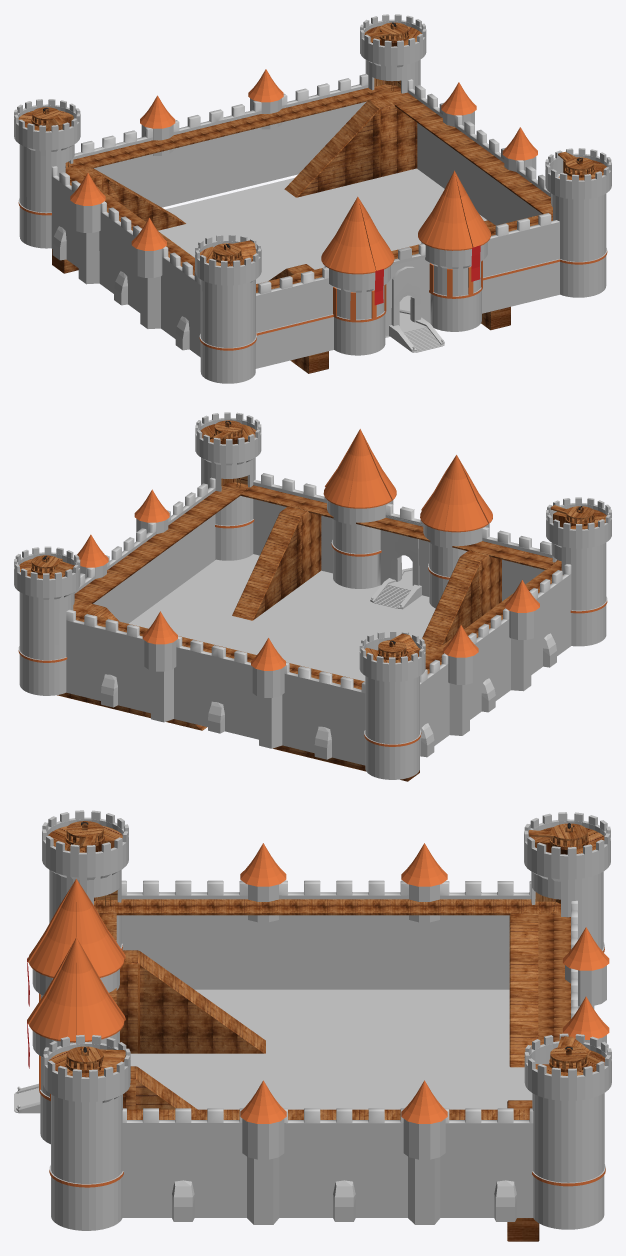
Rendered from castel9.fbx.
3 views of the same model, one above another, from view 1: azimuth 30°, elevation 25°; view 2: azimuth 150°, elevation 25°; view 3: azimuth 270°, elevation 25° (orthographic). The views are drawn at different scales.
Parts seen in each view (by area): view 1: Paredes, Maderas, Plane, Torre1, Torre4, Torre2, Torre3, Entrada; view 2: Paredes, Maderas, Plane, Torre2, Torre3, Torre1, Torre4, Entrada; view 3: Paredes, Plane, Maderas, Torre3, Torre4, Torre2, Torre1, Entrada.
Boxes of the visible parts, x1,y1,x2,y2 form: Paredes: (51, 69, 559, 368); Maderas: (52, 84, 552, 373); Plane: (158, 168, 487, 311); Torre1: (195, 234, 261, 383); Torre4: (545, 148, 611, 297); Torre2: (14, 99, 80, 248); Torre3: (360, 14, 426, 93); Entrada: (389, 266, 444, 352); Paredes: (66, 429, 571, 765); Maderas: (57, 482, 561, 781); Plane: (129, 554, 435, 681); Torre2: (359, 630, 425, 779); Torre3: (14, 546, 80, 695); Torre1: (546, 497, 611, 646); Torre4: (195, 412, 261, 560); Entrada: (370, 533, 421, 609); Paredes: (27, 843, 609, 1224); Plane: (130, 989, 532, 1109); Maderas: (94, 899, 570, 1241); Torre3: (524, 1033, 611, 1229); Torre4: (43, 1035, 130, 1230); Torre2: (524, 812, 610, 952); Torre1: (42, 810, 128, 949); Entrada: (14, 1083, 40, 1113).
Size of the model in its own units: 23168 by 9195 by 22402.
